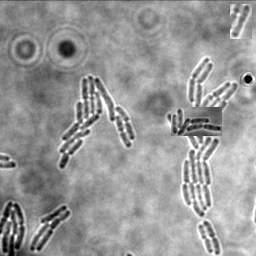Dividing: (204, 219, 222, 255), (199, 223, 215, 253)
Microcolony: (167, 57, 238, 216), (59, 75, 136, 169), (30, 204, 72, 251), (171, 107, 222, 136), (1, 200, 26, 255)
Rod: (230, 4, 252, 39)
